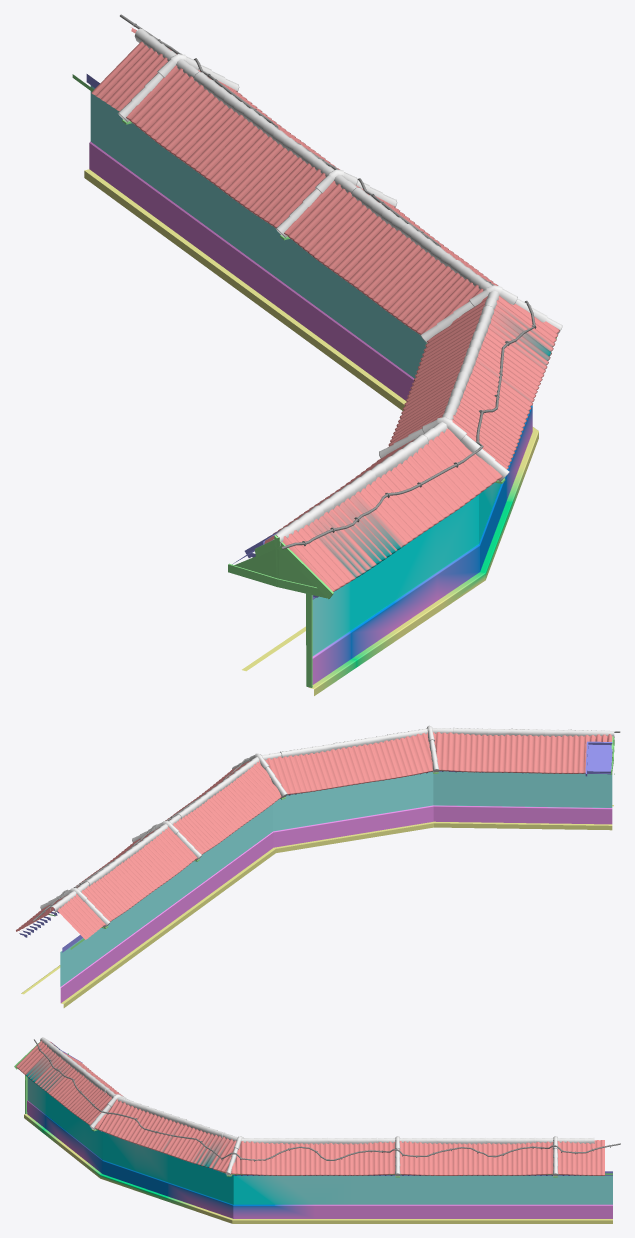
File: SM_ENV_KNVLLG03_AreaD_Hokage_GateB.gltf
3 renders of one model, top to bottom at view 1: azimuth 30°, elevation 25°; view 2: azimuth 150°, elevation 25°; view 3: azimuth 270°, elevation 25°, orthographic. The views are drawn at different scales.
Parts seen in each view (by area): view 1: SM_ENV_KNVLLG03_AreaD_Hokage_GateB; view 2: SM_ENV_KNVLLG03_AreaD_Hokage_GateB; view 3: SM_ENV_KNVLLG03_AreaD_Hokage_GateB.
Boxes of the visible parts, x1,y1,x2,y2 form: SM_ENV_KNVLLG03_AreaD_Hokage_GateB: [72, 14, 562, 695]; SM_ENV_KNVLLG03_AreaD_Hokage_GateB: [16, 725, 620, 1007]; SM_ENV_KNVLLG03_AreaD_Hokage_GateB: [14, 1037, 620, 1223].
Size of the model in its own units: 19.95 by 6.01 by 42.18.
